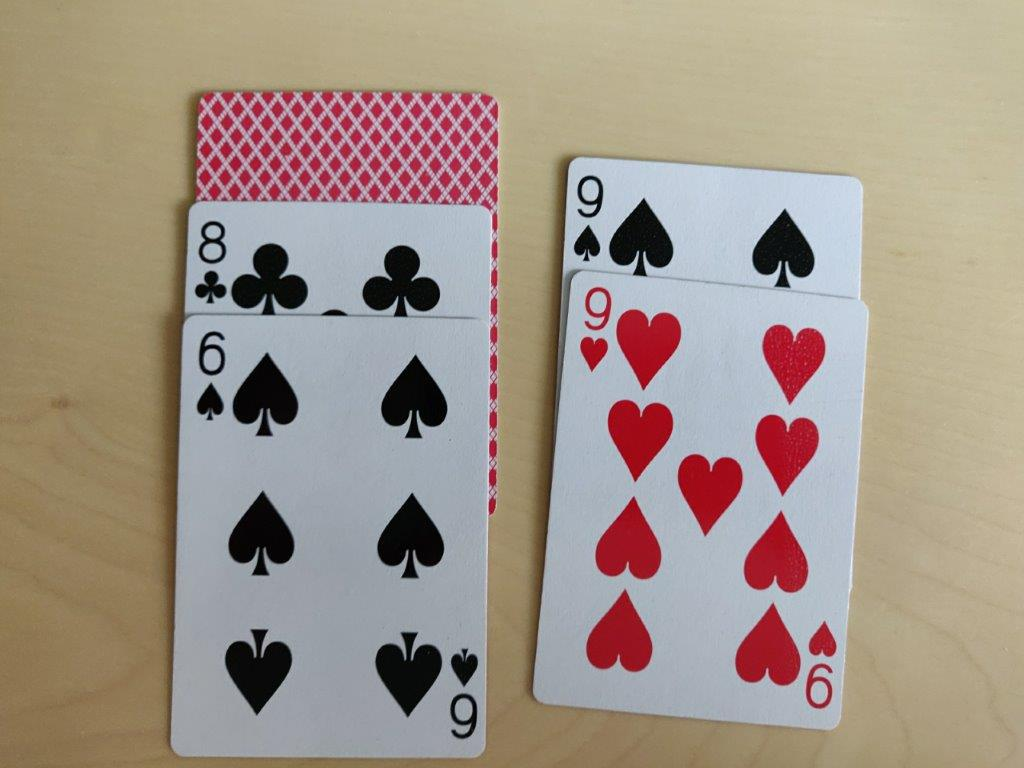6S: (189, 322, 228, 428)
8C: (192, 216, 229, 307)
9H: (571, 283, 614, 376)
9S: (565, 169, 606, 269)
BACK: (185, 86, 505, 209)
